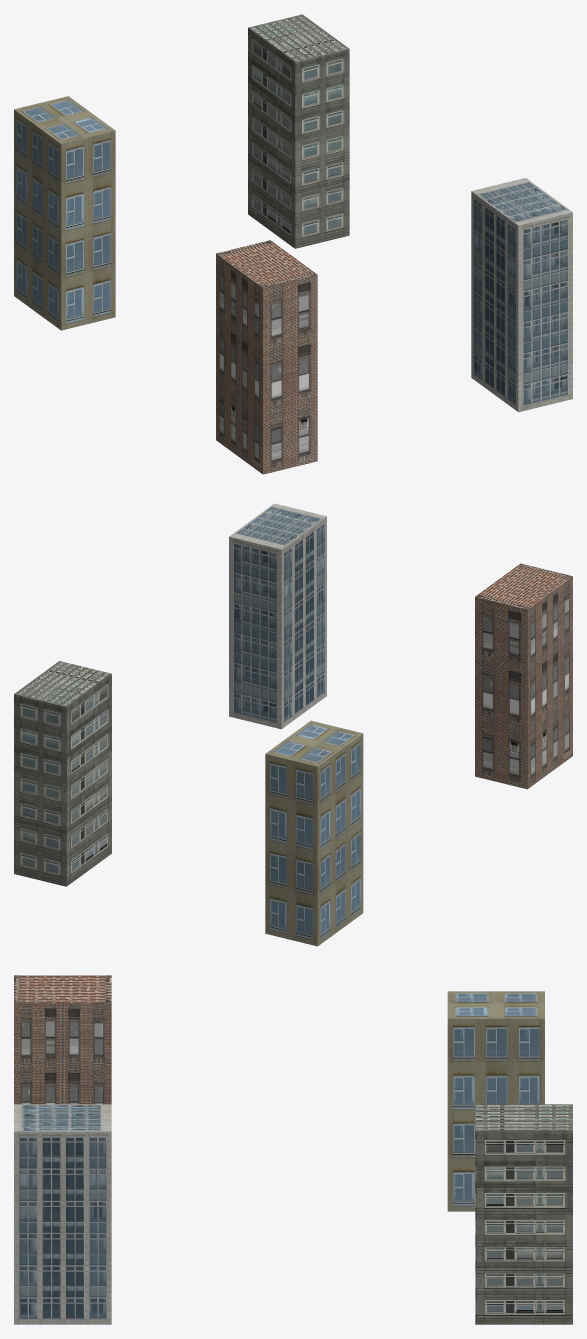
The model's file is predio 5.fbx.
The picture shows the model from 3 angles, top to bottom: view 1: azimuth 30°, elevation 25°; view 2: azimuth 150°, elevation 25°; view 3: azimuth 270°, elevation 25°; orthographic projection. The views are drawn at different scales.
Parts seen in each view (by area): view 1: predio 2.002, predio 2.001, predio 1, predio 2; view 2: predio 2.002, predio 1, predio 2, predio 2.001; view 3: predio 2, predio 2.001, predio 2.002, predio 1.
Part boxes in pixels (x1=…): predio 2.002: x1=14, y1=96, x2=115, y2=330; predio 2.001: x1=248, y1=14, x2=349, y2=248; predio 1: x1=216, y1=240, x2=317, y2=474; predio 2: x1=471, y1=178, x2=572, y2=412; predio 2.002: x1=265, y1=720, x2=363, y2=946; predio 1: x1=475, y1=563, x2=572, y2=789; predio 2: x1=229, y1=503, x2=326, y2=729; predio 2.001: x1=14, y1=661, x2=111, y2=886; predio 2: x1=14, y1=1104, x2=111, y2=1324; predio 2.001: x1=475, y1=1104, x2=572, y2=1324; predio 2.002: x1=447, y1=991, x2=544, y2=1211; predio 1: x1=14, y1=975, x2=111, y2=1104.
Size of the model in its own units: 27.79 by 45.48 by 68.76.
4 materials, 4 textured.
